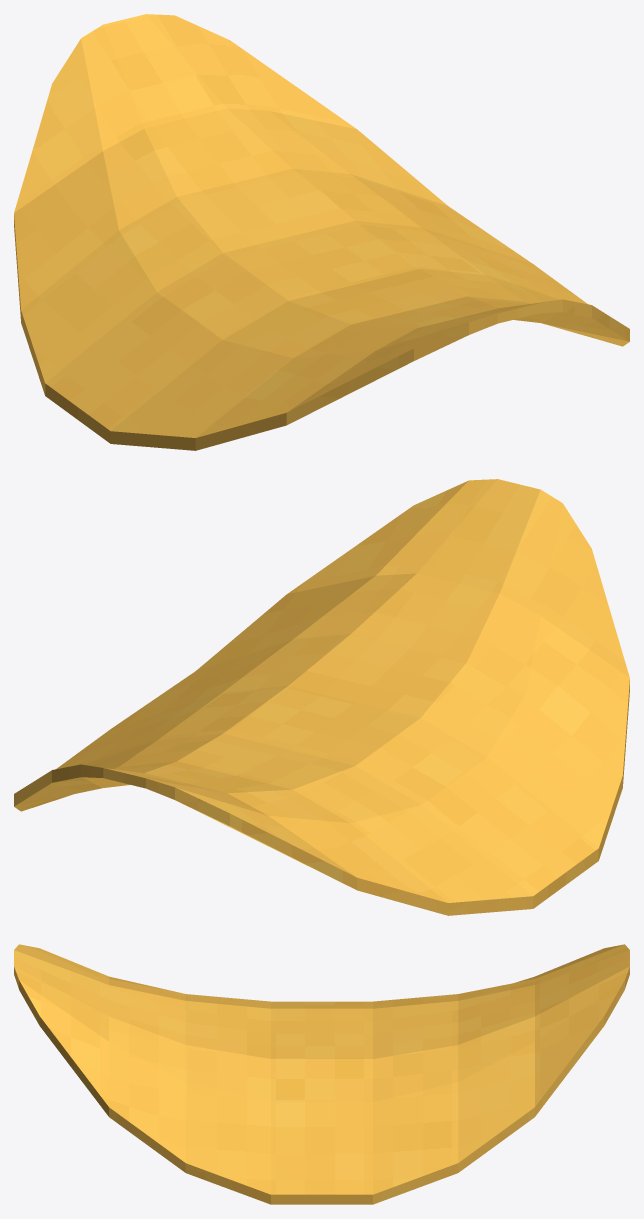
File: chips.obj
3 views of the same model, one above another, from view 1: azimuth 30°, elevation 25°; view 2: azimuth 150°, elevation 25°; view 3: azimuth 270°, elevation 25° (orthographic). The views are drawn at different scales.
Visible parts, largest first — view 1: plane; view 2: plane; view 3: plane.
Part boxes in pixels (<box>): plane: <box>14,14,629,450</box>; plane: <box>14,479,629,915</box>; plane: <box>14,944,629,1204</box>.
Bounding box in the file's own units: 0.625 × 0.2406 × 0.875.
1 material, 1 textured.
